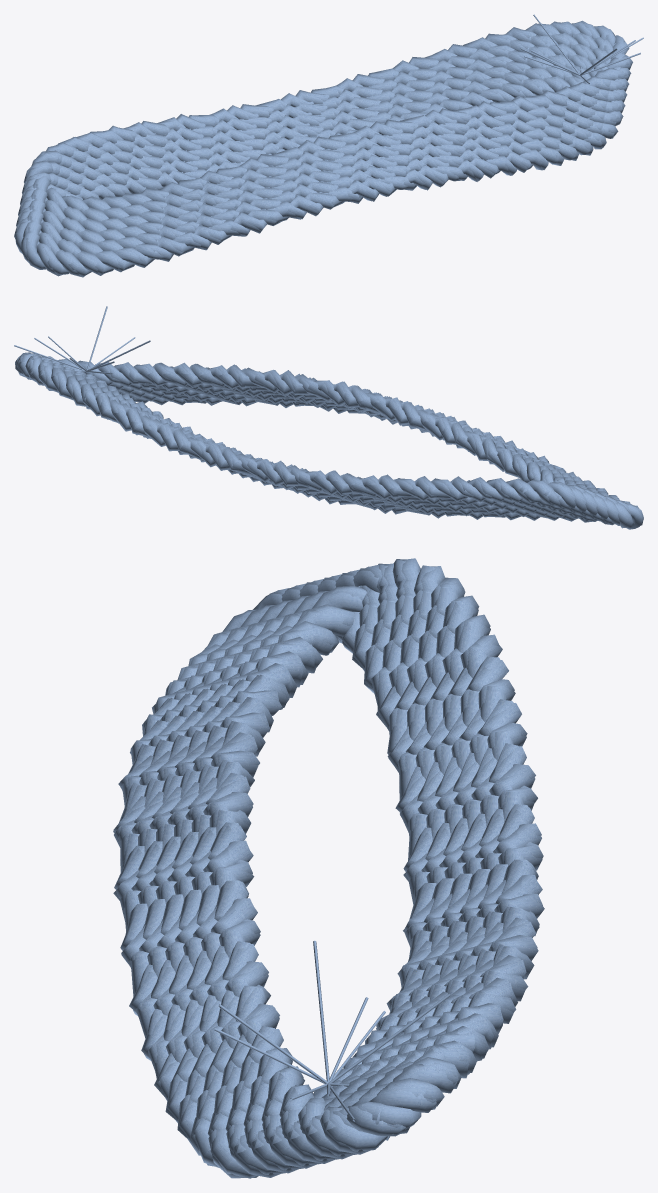
Rendered from hilo_lino_v001_candidate.glb.
3 views of the same model, one above another, from view 1: azimuth 30°, elevation 25°; view 2: azimuth 150°, elevation 25°; view 3: azimuth 270°, elevation 25° (orthographic). The views are drawn at different scales.
Parts seen in each view (by area): view 1: lino | coil 1 | twisted ply 1, lino | coil 6 | twisted ply 1, lino | coil 6 | twisted ply 2, lino | coil 1 | twisted ply 2, lino | coil 5 | twisted ply 1, lino | coil 5 | twisted ply 2, lino | coil 4 | twisted ply 1, lino | coil 4 | twisted ply 2, lino | coil 3 | twisted ply 1, lino | coil 3 | twisted ply 2, lino | coil 2 | twisted ply 1, lino | coil 2 | twisted ply 2; view 2: lino | coil 6 | twisted ply 2, lino | coil 6 | twisted ply 1, lino | coil 5 | twisted ply 2, lino | coil 5 | twisted ply 1, lino | coil 1 | twisted ply 1, lino | coil 1 | twisted ply 2, lino | coil 4 | twisted ply 2, lino | coil 3 | twisted ply 2, lino | coil 2 | twisted ply 2, lino | coil 4 | twisted ply 1, lino | coil 2 | twisted ply 1, lino | coil 3 | twisted ply 1; view 3: lino | coil 6 | twisted ply 2, lino | coil 6 | twisted ply 1, lino | coil 1 | twisted ply 1, lino | coil 1 | twisted ply 2, lino | coil 5 | twisted ply 2, lino | coil 4 | twisted ply 2, lino | coil 3 | twisted ply 2, lino | coil 2 | twisted ply 2, lino | coil 5 | twisted ply 1, lino | coil 4 | twisted ply 1, lino | coil 3 | twisted ply 1, lino | coil 2 | twisted ply 1.
Boxes of the visible parts, box(x1,y1,x2,y2) form: lino | coil 1 | twisted ply 1: box(21, 76, 618, 277); lino | coil 6 | twisted ply 1: box(31, 20, 629, 214); lino | coil 6 | twisted ply 2: box(24, 21, 632, 212); lino | coil 1 | twisted ply 2: box(14, 76, 623, 276); lino | coil 5 | twisted ply 1: box(31, 32, 625, 225); lino | coil 5 | twisted ply 2: box(22, 32, 631, 222); lino | coil 4 | twisted ply 1: box(29, 43, 620, 235); lino | coil 4 | twisted ply 2: box(20, 43, 629, 233); lino | coil 3 | twisted ply 1: box(27, 54, 618, 246); lino | coil 3 | twisted ply 2: box(18, 54, 627, 244); lino | coil 2 | twisted ply 1: box(23, 65, 616, 257); lino | coil 2 | twisted ply 2: box(16, 66, 625, 255); lino | coil 6 | twisted ply 2: box(16, 352, 583, 507); lino | coil 6 | twisted ply 1: box(15, 352, 584, 506); lino | coil 5 | twisted ply 2: box(38, 356, 594, 511); lino | coil 5 | twisted ply 1: box(41, 356, 595, 510); lino | coil 1 | twisted ply 1: box(85, 374, 643, 529); lino | coil 1 | twisted ply 2: box(85, 373, 639, 528); lino | coil 4 | twisted ply 2: box(49, 360, 605, 515); lino | coil 3 | twisted ply 2: box(60, 364, 616, 518); lino | coil 2 | twisted ply 2: box(74, 369, 627, 524); lino | coil 4 | twisted ply 1: box(53, 363, 606, 513); lino | coil 2 | twisted ply 1: box(75, 370, 630, 525); lino | coil 3 | twisted ply 1: box(64, 366, 617, 517); lino | coil 6 | twisted ply 2: box(203, 558, 544, 1154); lino | coil 6 | twisted ply 1: box(203, 564, 543, 1136); lino | coil 1 | twisted ply 1: box(114, 588, 434, 1178); lino | coil 1 | twisted ply 2: box(113, 582, 436, 1177); lino | coil 5 | twisted ply 2: box(185, 563, 507, 1159); lino | coil 4 | twisted ply 2: box(167, 568, 490, 1163); lino | coil 3 | twisted ply 2: box(149, 573, 472, 1168); lino | coil 2 | twisted ply 2: box(131, 577, 454, 1173); lino | coil 5 | twisted ply 1: box(185, 569, 505, 1138); lino | coil 4 | twisted ply 1: box(167, 574, 488, 1143); lino | coil 3 | twisted ply 1: box(149, 578, 470, 1148); lino | coil 2 | twisted ply 1: box(131, 583, 452, 1159).
Size of the model in its own units: 0.2117 by 0.0302 by 0.0651.
Materials: 1 (1 with a texture image).
